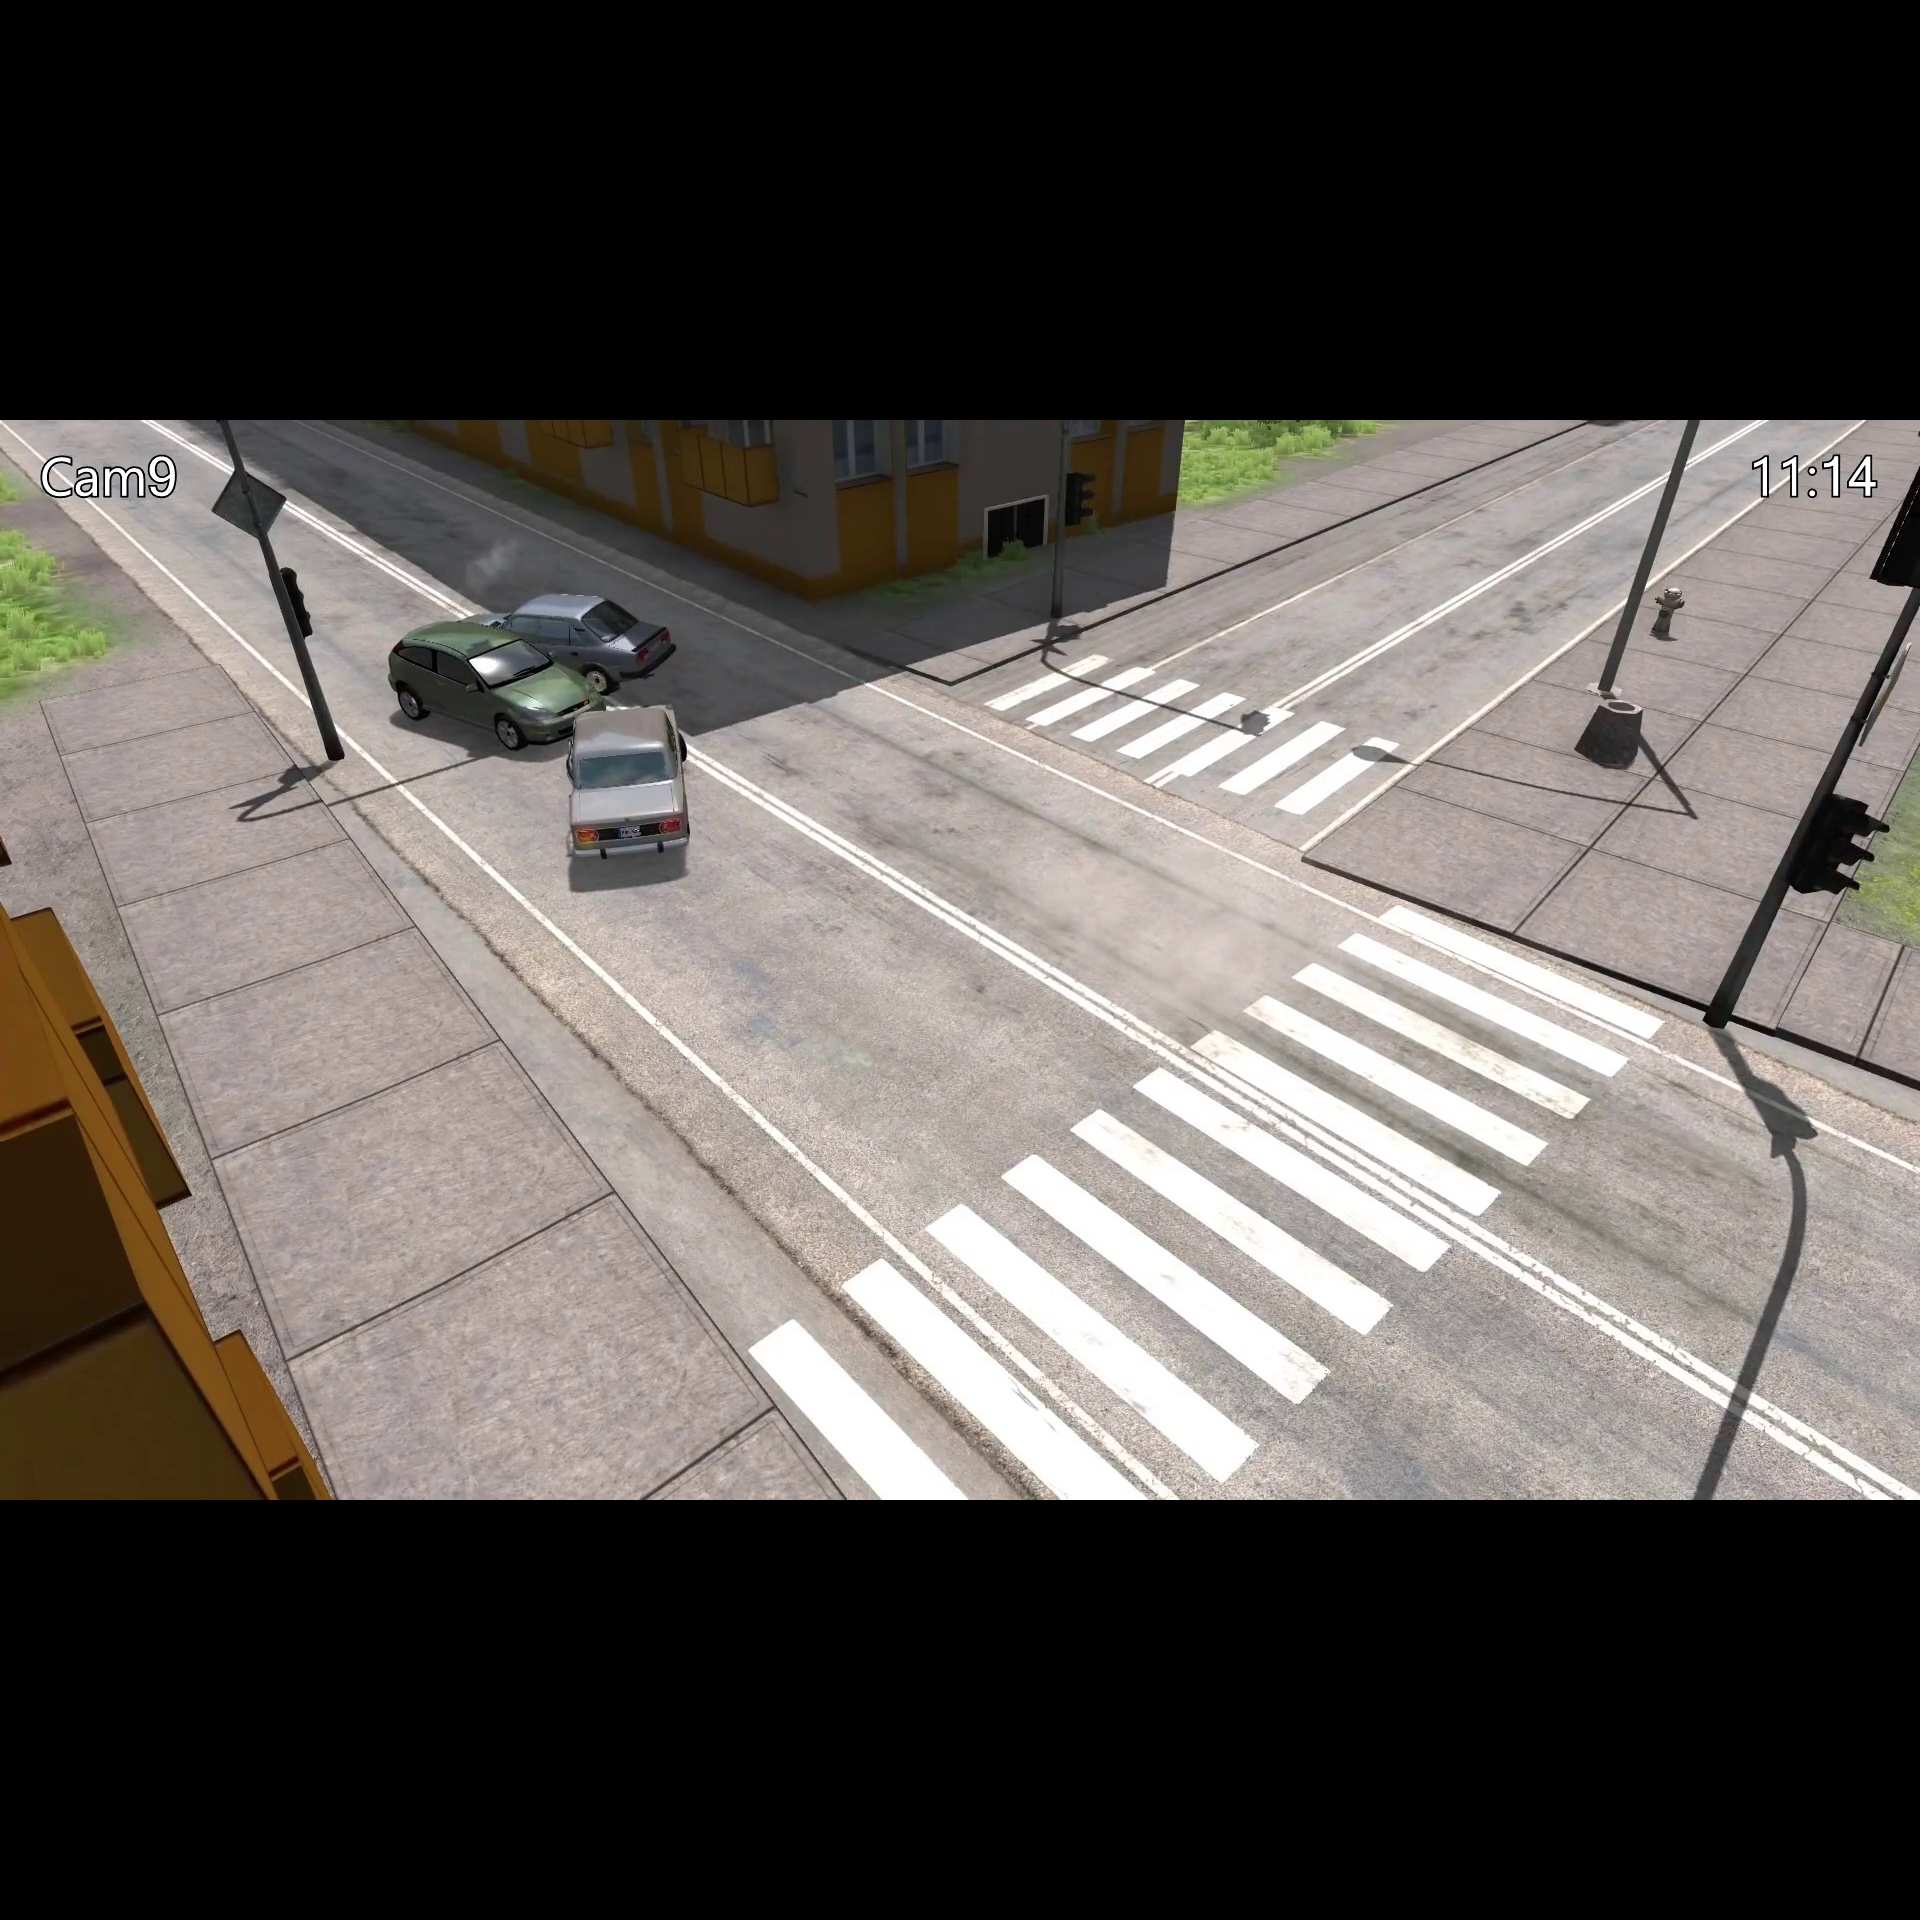vehicle: (382, 619, 600, 751), (559, 700, 693, 877), (447, 585, 682, 686)
